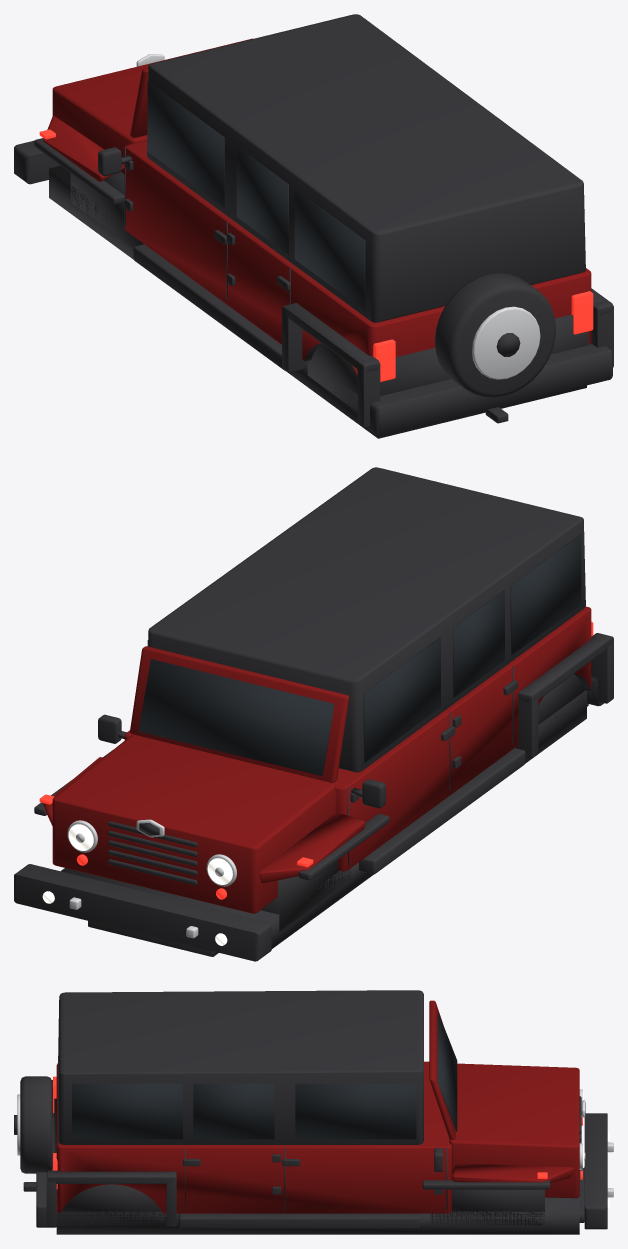
Rendered from car_overmark_trailhand.glb.
3 views of the same model, one above another, from view 1: azimuth 30°, elevation 25°; view 2: azimuth 150°, elevation 25°; view 3: azimuth 270°, elevation 25° (orthographic). The views are drawn at different scales.
Visible parts, largest first — view 1: car_overmark_trailhand; view 2: car_overmark_trailhand; view 3: car_overmark_trailhand.
Boxes of the visible parts, x1,y1,x2,y2 form: car_overmark_trailhand: [14, 14, 613, 438]; car_overmark_trailhand: [14, 467, 613, 961]; car_overmark_trailhand: [14, 990, 613, 1234].
Size of the model in its own units: 2.04 by 1.46 by 4.7.
